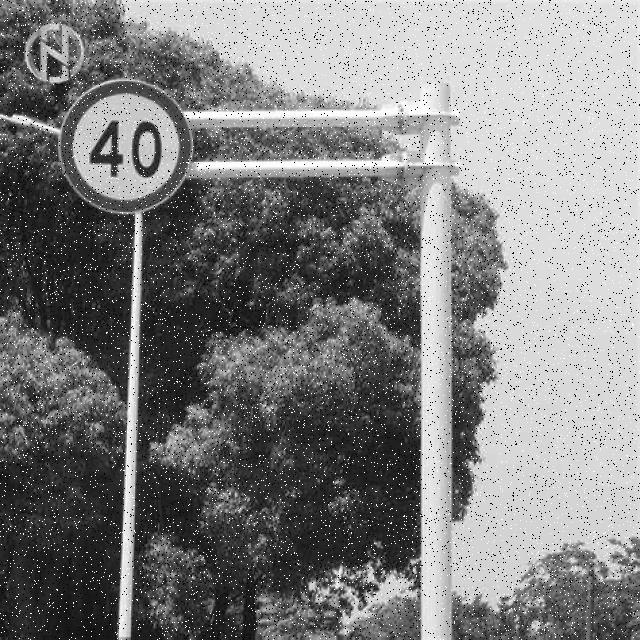speedlimit_40: (62, 76, 201, 228)
